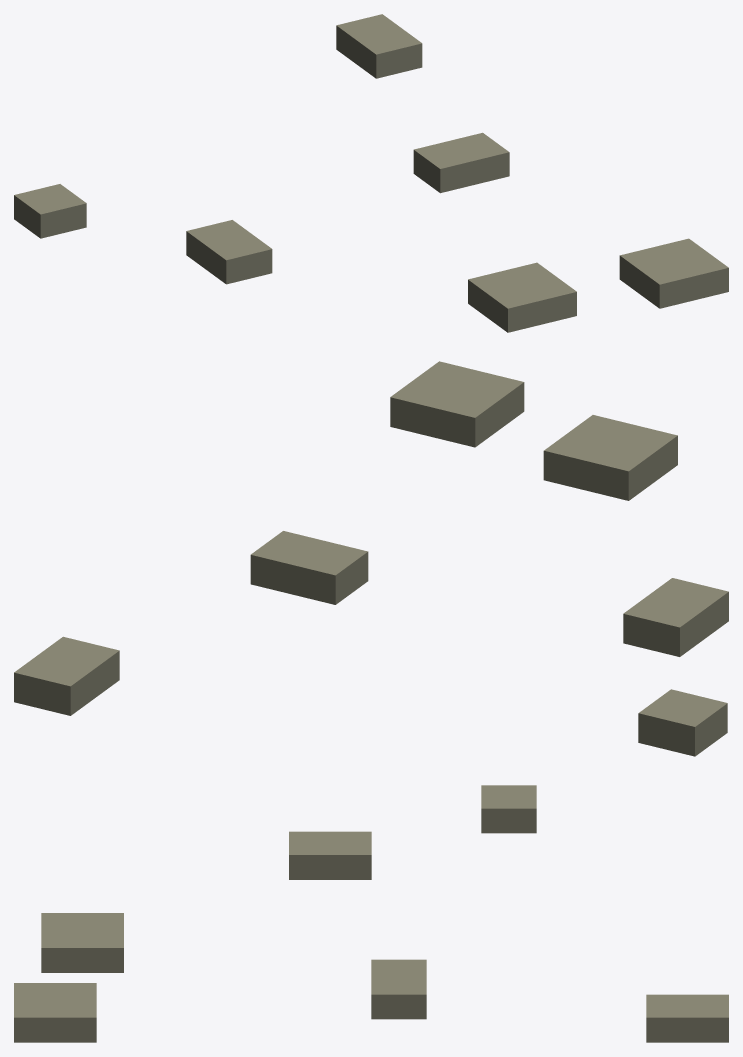
File: pebbles.gltf
The picture shows the model from 3 angles, top to bottom: view 1: azimuth 30°, elevation 25°; view 2: azimuth 150°, elevation 25°; view 3: azimuth 270°, elevation 25°; orthographic projection. The views are drawn at different scales.
Visible parts, largest first — view 1: pebbles; view 2: pebbles; view 3: pebbles.
Part boxes in pixels (x1,y1,x2,y2): pebbles: [14, 14, 728, 332]; pebbles: [14, 361, 728, 756]; pebbles: [14, 785, 728, 1042].
Bounding box in the file's own units: 1.25 × 0.0625 × 1.62.
1 material, 1 textured.
